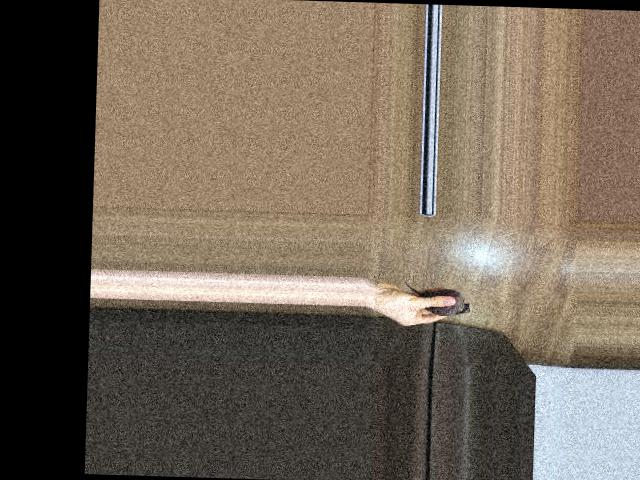beet: (405, 279, 471, 316)
